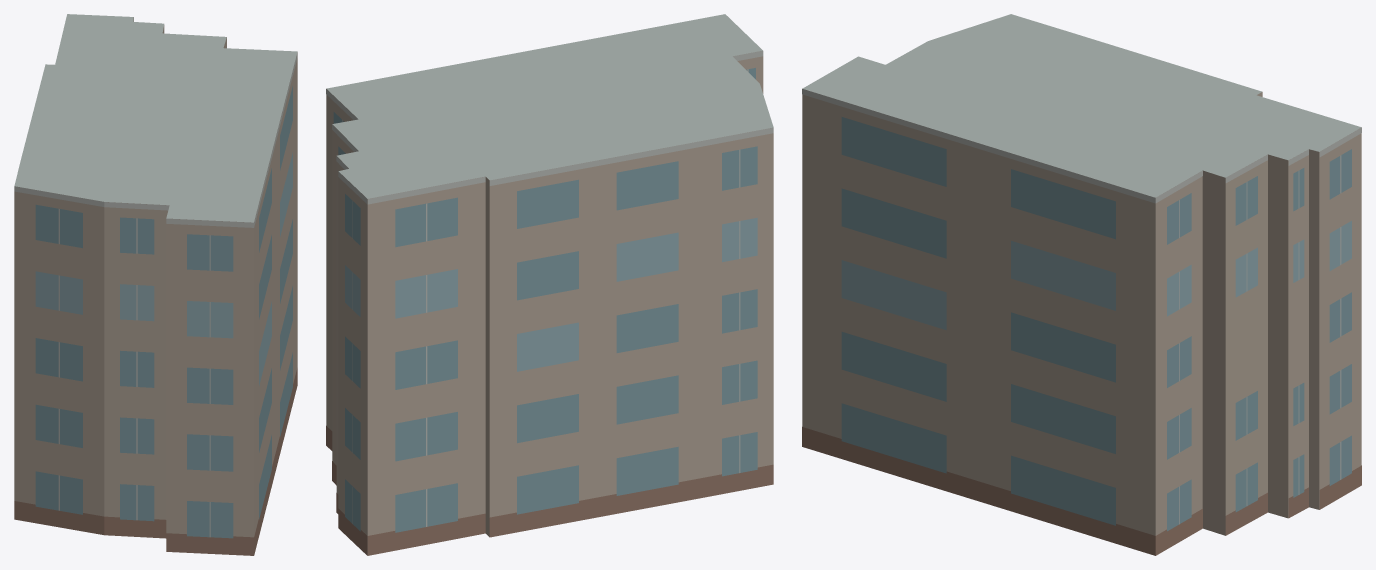
The model's file is survey-upis-33033940.glb.
The picture shows the model from 3 angles, left to right: view 1: azimuth 30°, elevation 25°; view 2: azimuth 150°, elevation 25°; view 3: azimuth 270°, elevation 25°; orthographic projection. The views are drawn at different scales.
Parts seen in each view (by area): view 1: survey-upis-33033940.tmp; view 2: survey-upis-33033940.tmp; view 3: survey-upis-33033940.tmp.
Part boxes in pixels (x1,y1,x2,y2): survey-upis-33033940.tmp: (14,14,297,555); survey-upis-33033940.tmp: (326,14,773,555); survey-upis-33033940.tmp: (802,14,1361,555).
Bounding box in the file's own units: 16.79 × 15.25 × 21.6.
